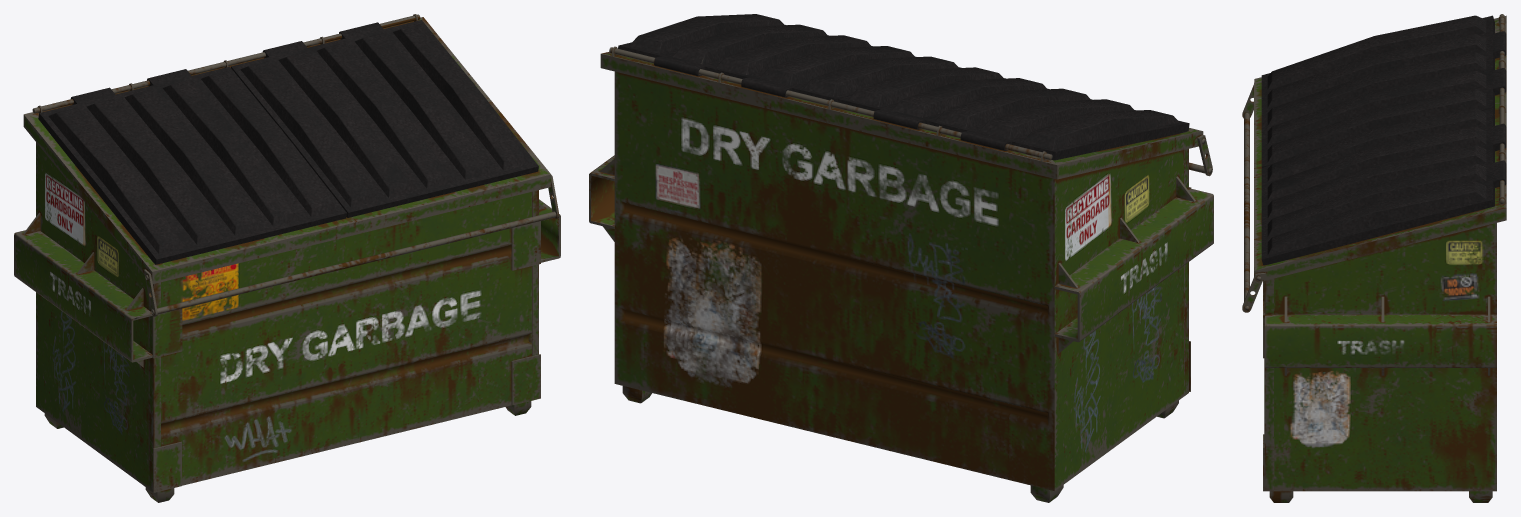
The picture shows the model from 3 angles, left to right: view 1: azimuth 30°, elevation 25°; view 2: azimuth 150°, elevation 25°; view 3: azimuth 270°, elevation 25°; orthographic projection. The views are drawn at different scales.
Visible parts, largest first — view 1: Dumpster_low_M_Dumpster_0; view 2: Dumpster_low_M_Dumpster_0; view 3: Dumpster_low_M_Dumpster_0.
Boxes of the visible parts, x1,y1,x2,y2 form: Dumpster_low_M_Dumpster_0: (14,14,560,502); Dumpster_low_M_Dumpster_0: (589,14,1213,502); Dumpster_low_M_Dumpster_0: (1242,14,1506,502).
Bounding box in the file's own units: 2 × 1.4 × 1.08.
1 material, 1 textured.
